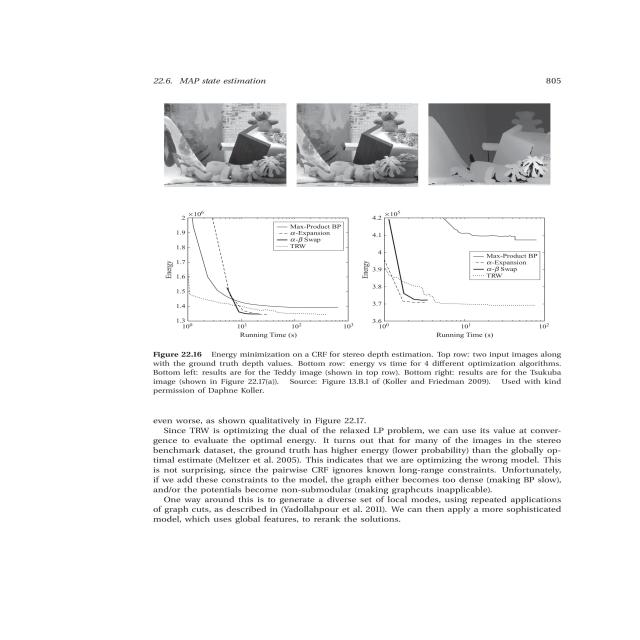diagram: (88, 97, 640, 400)
